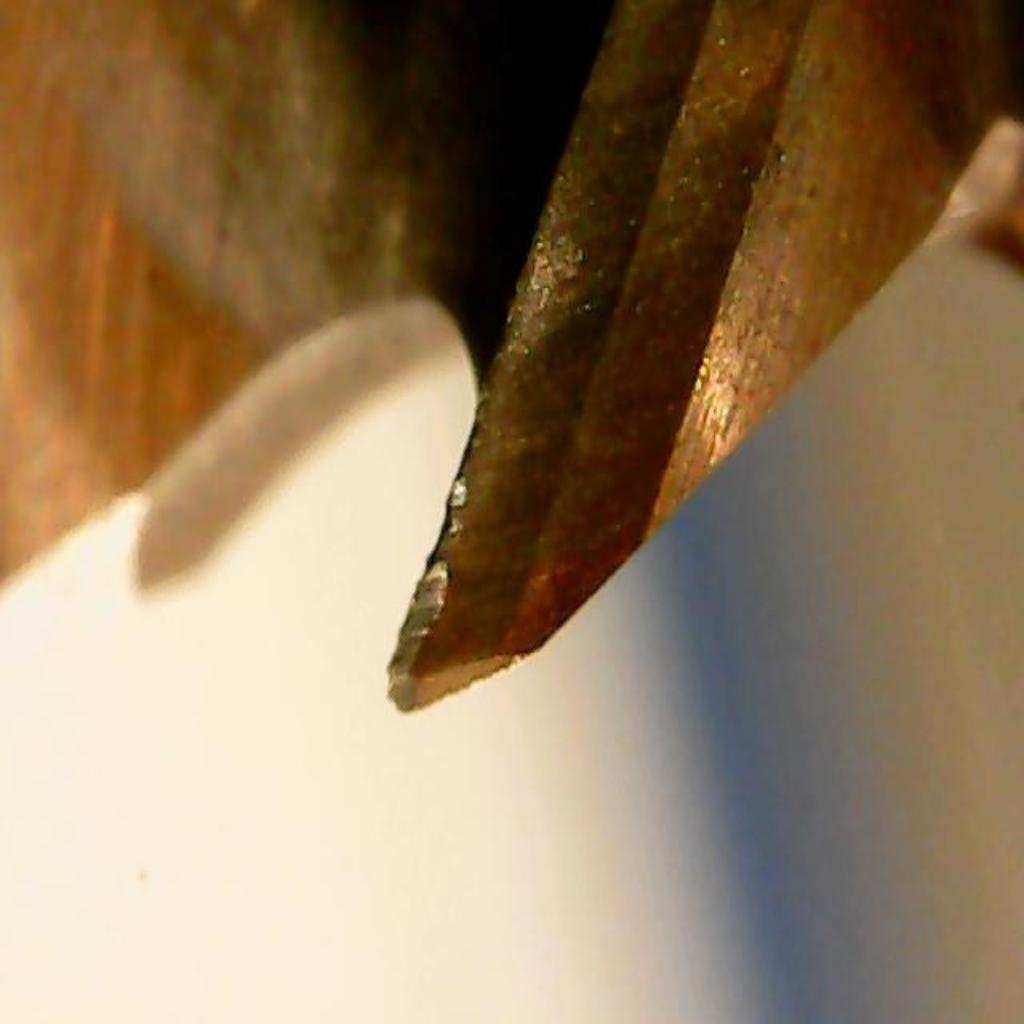Tool-wear-class-1: (338, 304, 618, 736)
